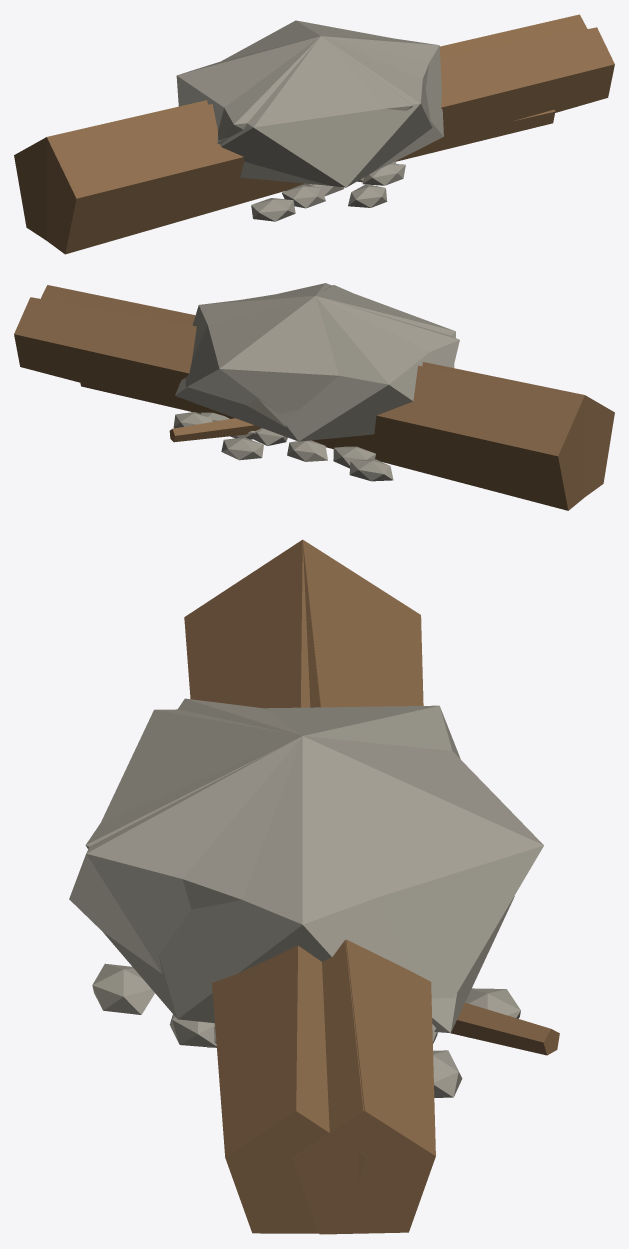
File: debris.glb
3 renders of one model, top to bottom at view 1: azimuth 30°, elevation 25°; view 2: azimuth 150°, elevation 25°; view 3: azimuth 270°, elevation 25°, orthographic. The views are drawn at different scales.
Visible parts, largest first — view 1: log_0, mediumRock_1, mediumRock_0, mediumRock_2, log_2, log_1, gravel_2, gravel_0, branch_2; view 2: log_2, mediumRock_0, mediumRock_1, log_0, mediumRock_2, gravel_1, gravel_0, branch_1, gravel_2, branch_0, branch_2, log_1; view 3: mediumRock_0, log_0, log_2, mediumRock_1, mediumRock_2, log_1, gravel_0, gravel_2, branch_1, branch_0, gravel_1.
Part boxes in pixels (<box>): log_0: <box>46,27,614,254</box>; mediumRock_1: <box>176,36,432,187</box>; mediumRock_0: <box>218,20,428,140</box>; mediumRock_2: <box>217,36,443,185</box>; log_2: <box>14,14,579,253</box>; log_1: <box>53,15,587,190</box>; gravel_2: <box>282,163,405,208</box>; gravel_0: <box>251,161,396,221</box>; branch_2: <box>395,109,555,161</box>; log_2: <box>14,297,584,510</box>; mediumRock_0: <box>185,285,459,413</box>; mediumRock_1: <box>175,283,455,441</box>; log_0: <box>40,285,614,510</box>; mediumRock_2: <box>179,296,314,427</box>; gravel_1: <box>173,412,375,468</box>; gravel_0: <box>230,428,393,481</box>; branch_1: <box>169,418,253,441</box>; gravel_2: <box>221,437,263,460</box>; branch_0: <box>80,383,260,437</box>; branch_2: <box>174,427,261,442</box>; log_1: <box>30,297,583,510</box>; mediumRock_0: <box>85,698,543,1033</box>; log_0: <box>184,540,420,1233</box>; log_2: <box>184,540,435,1234</box>; mediumRock_1: <box>69,705,514,1032</box>; mediumRock_2: <box>103,736,409,1023</box>; log_1: <box>292,540,434,1234</box>; gravel_0: <box>92,963,437,1047</box>; gravel_2: <box>169,988,520,1047</box>; branch_1: <box>457,1002,558,1055</box>; branch_0: <box>450,1020,546,1055</box>; gravel_1: <box>433,1050,462,1097</box>.
Bounding box in the file's own units: 2.02 × 0.48 × 0.7882.
